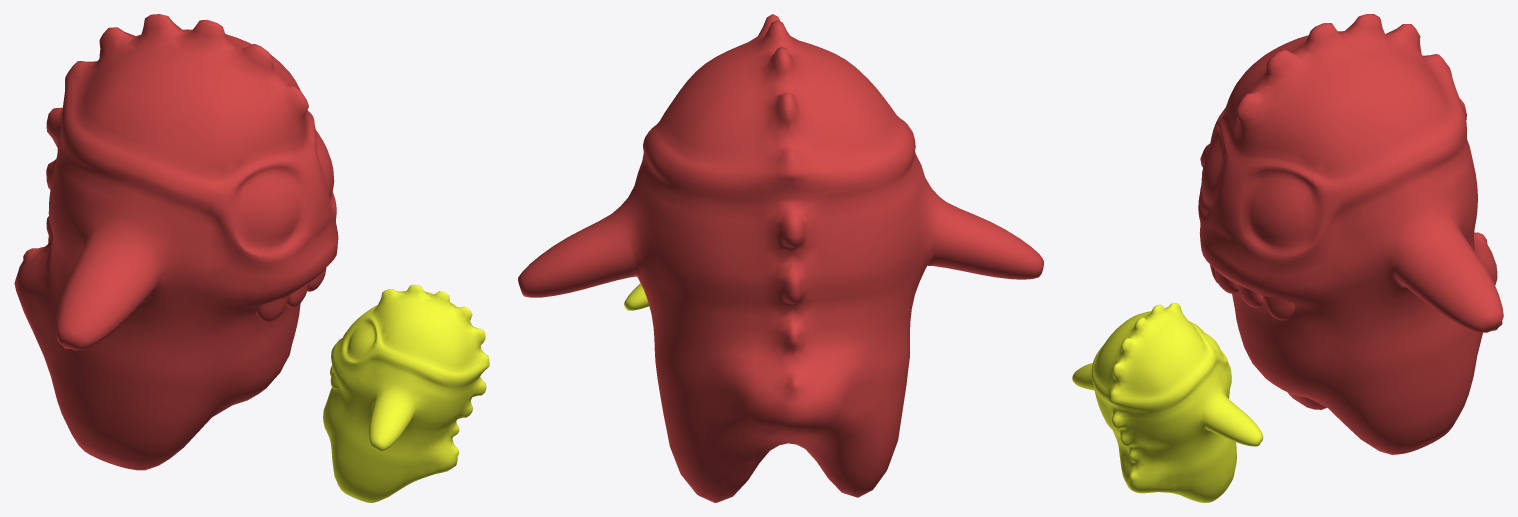
File: ZillaThrilla.FBX
The picture shows the model from 3 angles, left to right: view 1: azimuth 30°, elevation 25°; view 2: azimuth 150°, elevation 25°; view 3: azimuth 270°, elevation 25°; orthographic projection. The views are drawn at different scales.
Visible parts, largest first — view 1: Chib003, Chib002, tooth014; view 2: Chib003; view 3: Chib003, Chib002, tooth015.
Boxes of the visible parts, <box> form: Chib003: <box>14,14,338,470</box>; Chib002: <box>323,284,489,502</box>; tooth014: <box>256,295,288,322</box>; Chib003: <box>518,14,1043,502</box>; Chib003: <box>1198,14,1503,454</box>; Chib002: <box>1072,303,1263,502</box>; tooth015: <box>1262,295,1295,320</box>.
Bounding box in the file's own units: 23.36 × 23.21 × 25.24.
